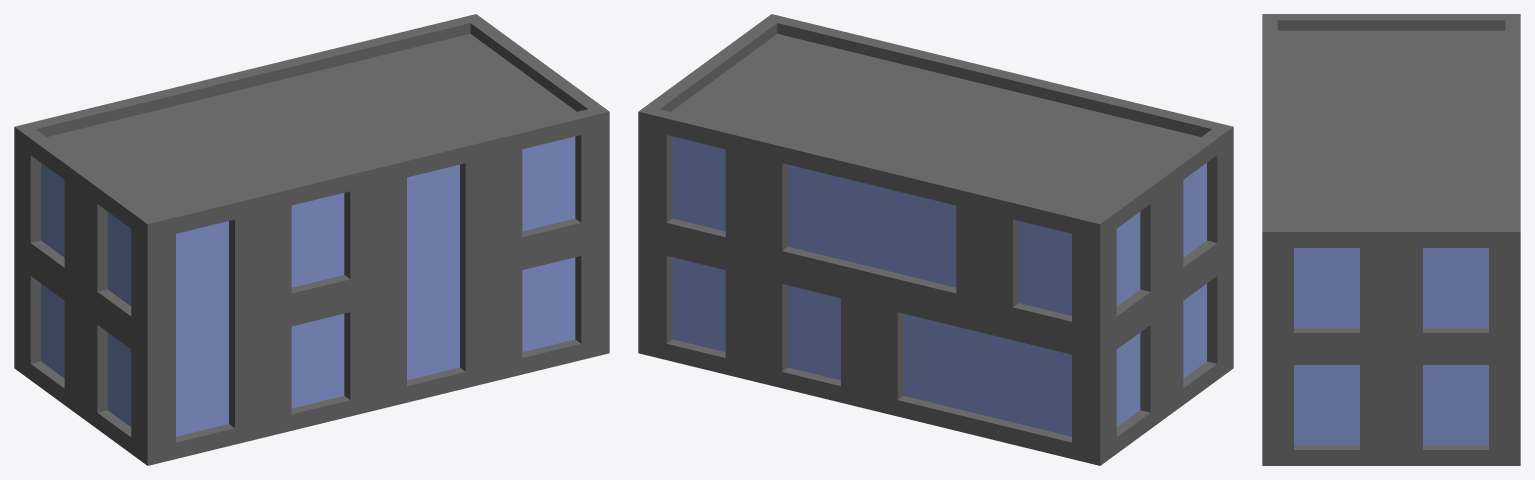
Rendered from line-block.glb.
The picture shows the model from 3 angles, left to right: view 1: azimuth 30°, elevation 25°; view 2: azimuth 150°, elevation 25°; view 3: azimuth 270°, elevation 25°; orthographic projection. The views are drawn at different scales.
Parts seen in each view (by area): view 1: line; view 2: line; view 3: line.
Boxes of the visible parts, x1,y1,x2,y2 form: line: (14,14,609,465); line: (638,14,1233,465); line: (1262,14,1520,465).
Size of the model in its own units: 4 by 2 by 2.
